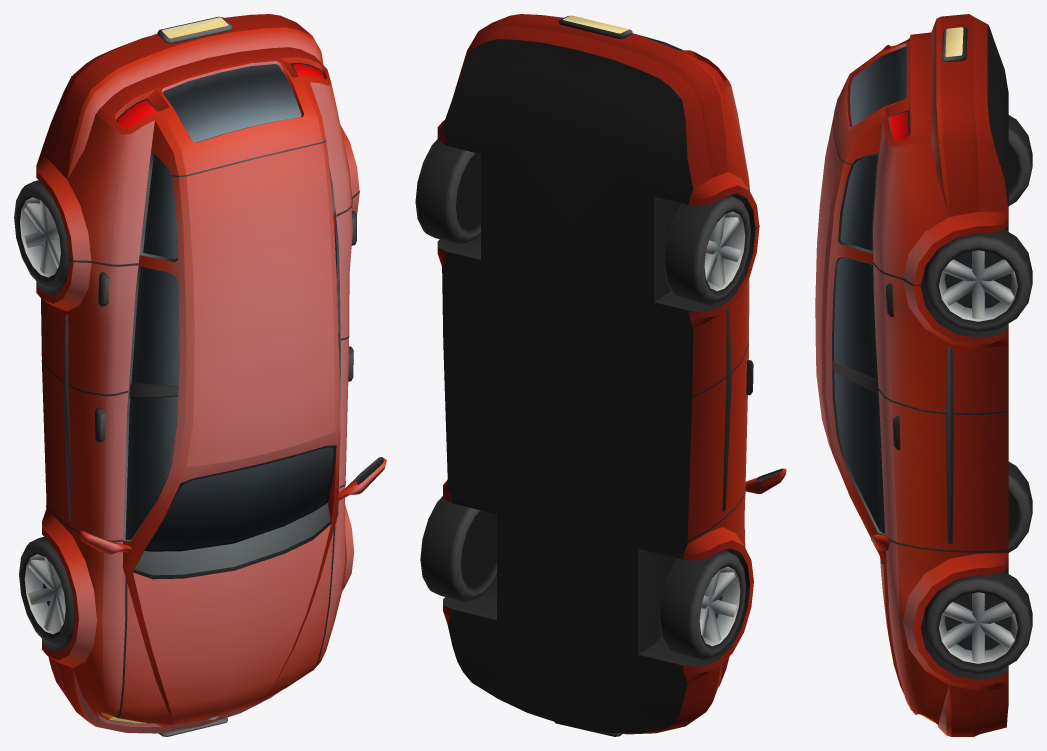
File: Car_1_2.fbx
The picture shows the model from 3 angles, left to right: view 1: azimuth 30°, elevation 25°; view 2: azimuth 150°, elevation 25°; view 3: azimuth 270°, elevation 25°; orthographic projection. The views are drawn at different scales.
Parts seen in each view (by area): view 1: car_1, wheel_FR.002, wheel_RR.002; view 2: car_1, wheel_FR.002, wheel_RR.002, wheel_FL.002, wheel_RL.002; view 3: car_1, wheel_FL.002, wheel_RL.002, wheel_RR.002, wheel_FR.002.
Boxes of the visible parts, bbox=[...] form: car_1: bbox=[36, 14, 386, 736]; wheel_FR.002: bbox=[19, 537, 74, 648]; wheel_RR.002: bbox=[14, 180, 69, 291]; car_1: bbox=[437, 14, 786, 736]; wheel_FR.002: bbox=[659, 550, 746, 659]; wheel_RR.002: bbox=[664, 195, 750, 304]; wheel_FL.002: bbox=[420, 496, 496, 601]; wheel_RL.002: bbox=[415, 139, 480, 244]; car_1: bbox=[815, 14, 1008, 736]; wheel_FL.002: bbox=[924, 571, 1032, 674]; wheel_RL.002: bbox=[924, 229, 1032, 332]; wheel_RR.002: bbox=[1008, 115, 1032, 205]; wheel_FR.002: bbox=[1008, 462, 1032, 552].
Size of the model in its own units: 194 by 429 by 125.
1 material, 1 textured.
